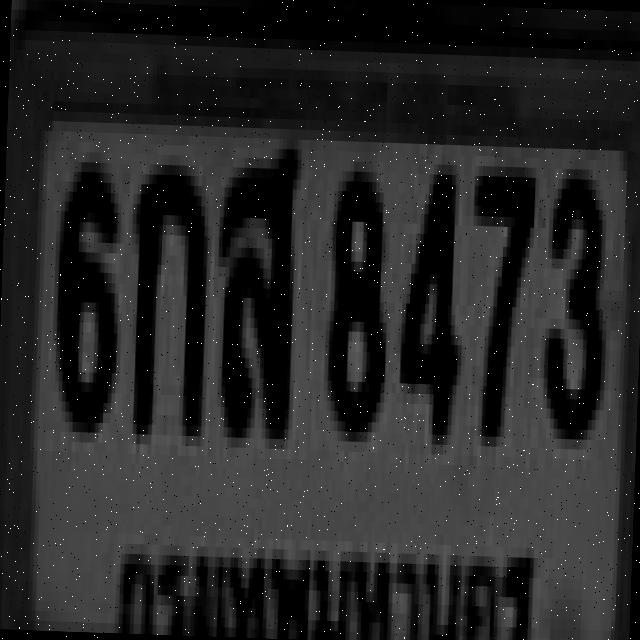10GorGai: (125, 154, 206, 426)
3: (538, 158, 604, 430)
4: (394, 153, 461, 434)
49SorSuea: (212, 136, 294, 428)
6: (49, 151, 120, 423)
7: (462, 155, 532, 437)
8: (322, 160, 388, 432)
